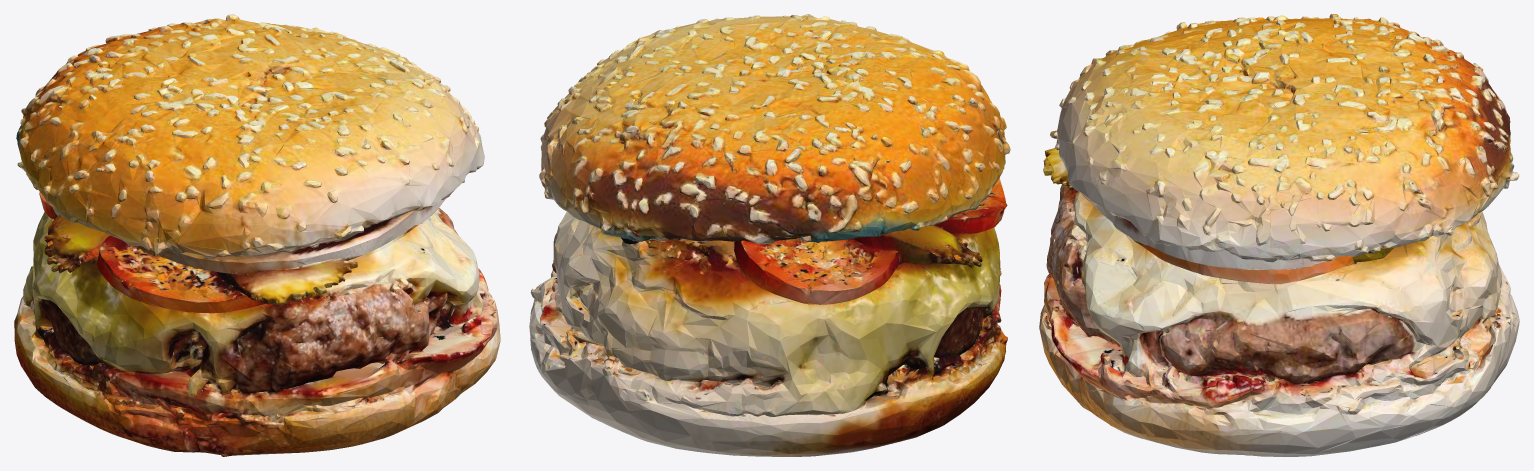
Rendered from classic_burger.glb.
3 views of the same model, side by side, from view 1: azimuth 30°, elevation 25°; view 2: azimuth 150°, elevation 25°; view 3: azimuth 270°, elevation 25° (orthographic).
Bounding box in the file's own units: 1.96 × 1.35 × 1.95.
Materials: 1 (1 with a texture image).
